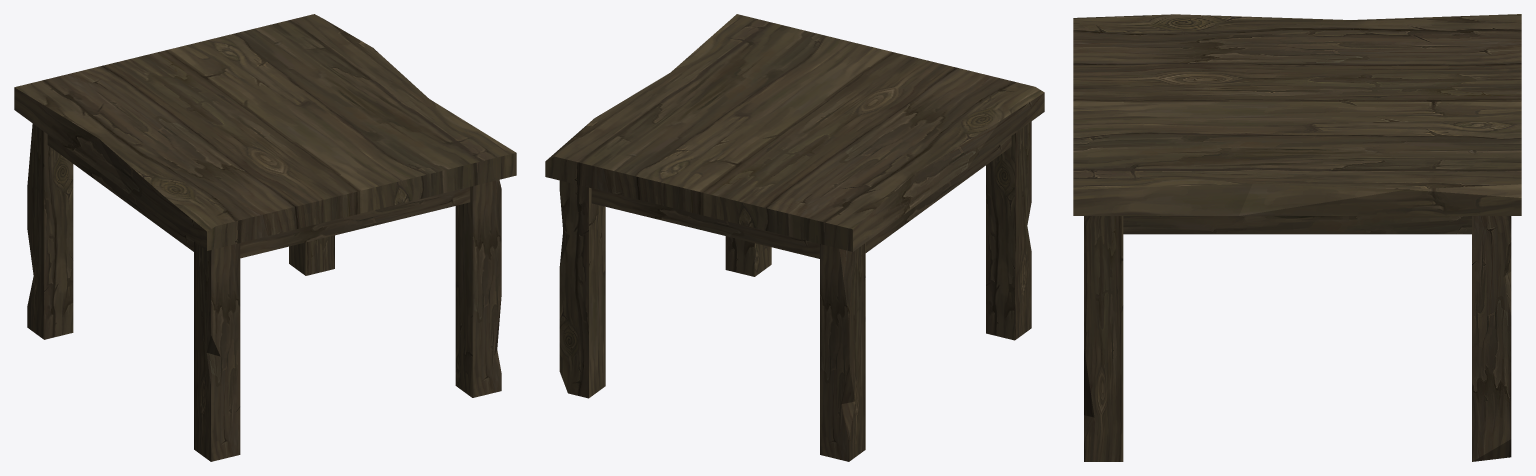
File: SM_Prop_Table_Wood_10.fbx
3 renders of one model, left to right at view 1: azimuth 30°, elevation 25°; view 2: azimuth 150°, elevation 25°; view 3: azimuth 270°, elevation 25°, orthographic. The views are drawn at different scales.
Visible parts, largest first — view 1: SM_Prop_Table_Wood_10; view 2: SM_Prop_Table_Wood_10; view 3: SM_Prop_Table_Wood_10.
Part boxes in pixels (left/top/right/bottom): SM_Prop_Table_Wood_10: left=14, top=14, right=516, bottom=461; SM_Prop_Table_Wood_10: left=545, top=14, right=1044, bottom=461; SM_Prop_Table_Wood_10: left=1073, top=14, right=1521, bottom=461.
Size of the model in its own units: 106 by 78.59 by 115.
